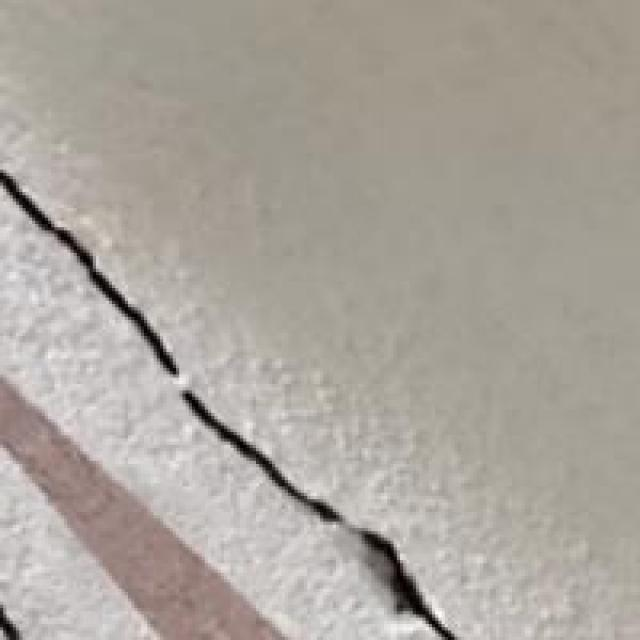Crack: (7, 147, 439, 633)
